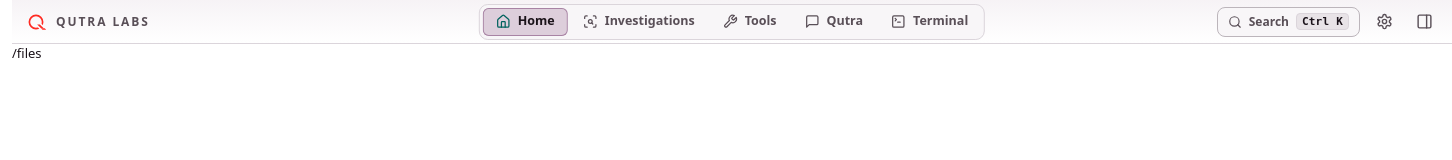
Scenario: TopBar › clicking Tools opens /tools
Click the button "Tools".
click(750, 22)  # box [710, 8, 790, 36]
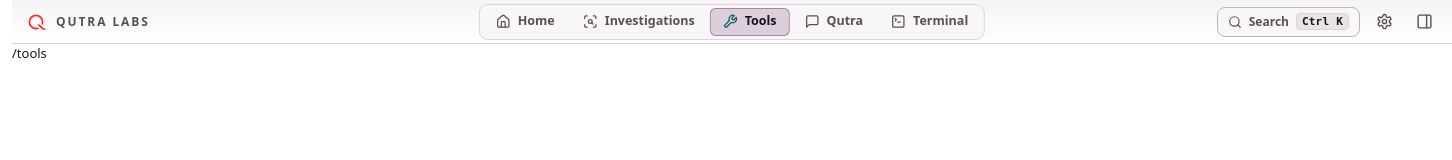
Result: the text with test id "where" reads "/tools" at [12, 44, 47, 62]
